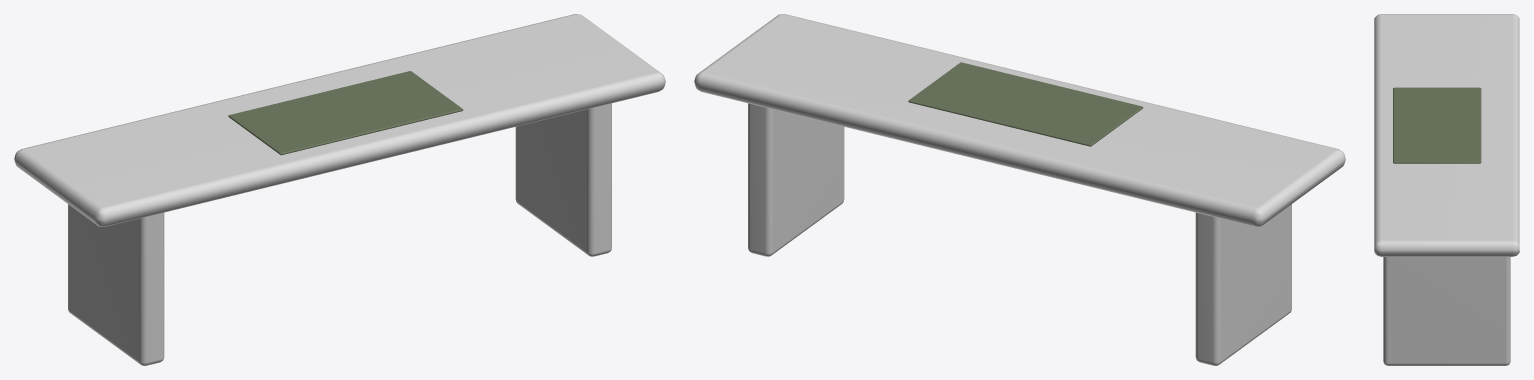
Rendered from desk.glb.
3 views of the same model, side by side, from view 1: azimuth 30°, elevation 25°; view 2: azimuth 150°, elevation 25°; view 3: azimuth 270°, elevation 25° (orthographic). The views are drawn at different scales.
Visible parts, largest first — view 1: Walnut writing desk.001, Writing desk pedestal.002, Writing desk pedestal.003, Leather writing mat.001; view 2: Walnut writing desk.001, Writing desk pedestal.002, Writing desk pedestal.003, Leather writing mat.001; view 3: Walnut writing desk.001, Writing desk pedestal.003, Leather writing mat.001.
Boxes of the visible parts, x1,y1,x2,y2 form: Walnut writing desk.001: (14, 14, 665, 226); Writing desk pedestal.002: (68, 204, 164, 365); Writing desk pedestal.003: (515, 103, 611, 256); Leather writing mat.001: (228, 71, 463, 155); Walnut writing desk.001: (694, 14, 1345, 226); Writing desk pedestal.002: (1195, 204, 1291, 365); Writing desk pedestal.003: (748, 103, 844, 256); Leather writing mat.001: (908, 62, 1143, 146); Walnut writing desk.001: (1374, 14, 1519, 256); Writing desk pedestal.003: (1383, 257, 1510, 365); Leather writing mat.001: (1393, 87, 1481, 163).
Bounding box in the file's own units: 2.8 × 0.825 × 0.7394.
